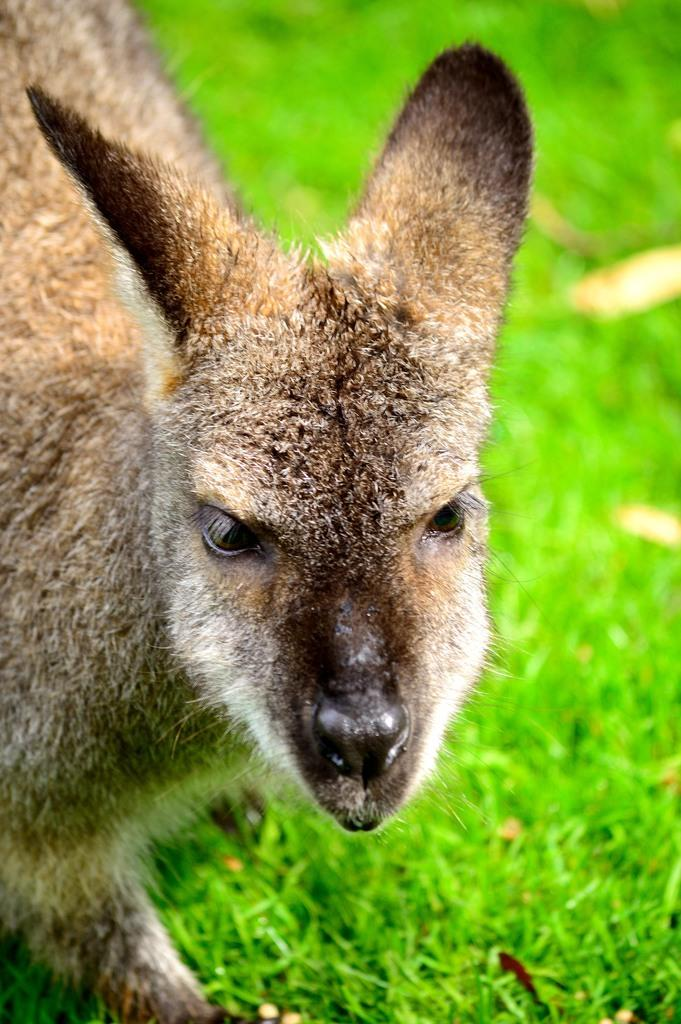kangaroo: (0, 0, 538, 1023)
